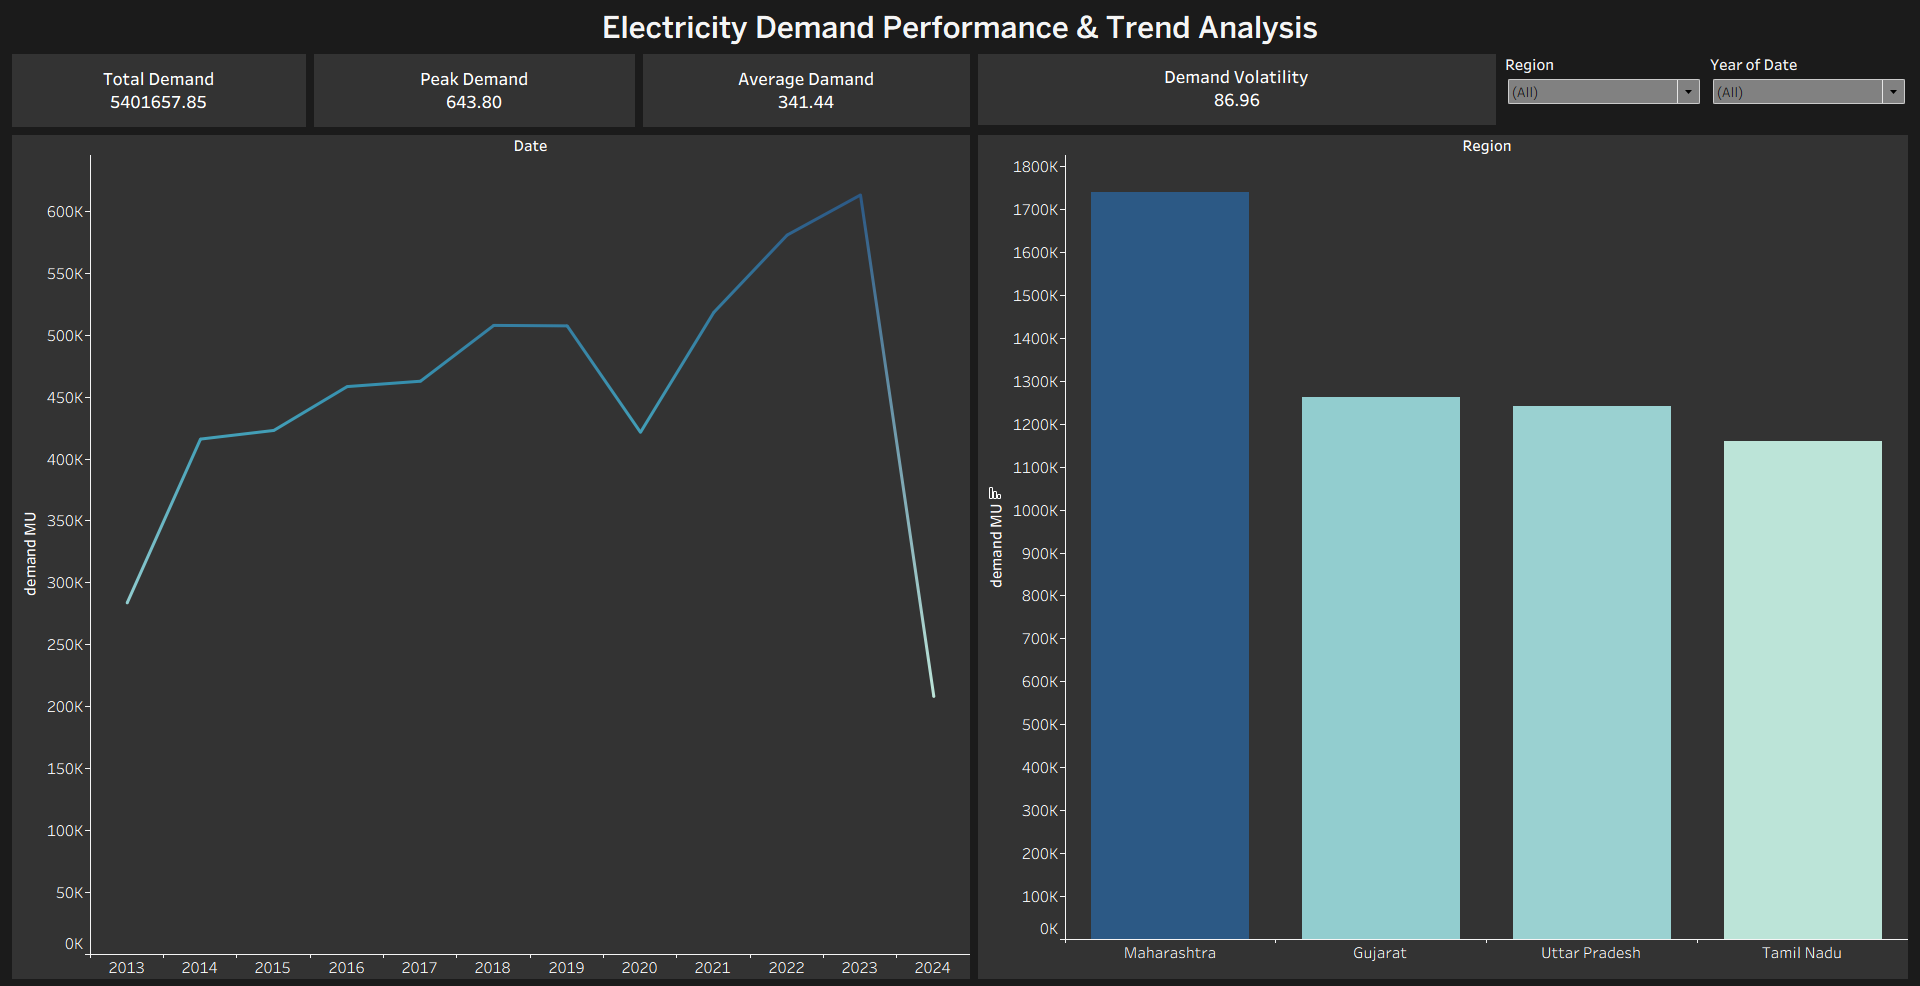

What the dashboard file says about the page in this screenshot:
{"tool":"tableau","page":{"name":"Dashboard 1","canvas":[1000,1000],"units":"permille","ordinal":0},"visuals":[{"type":"title","box":[4.2,9.9,991.5,54.2]},{"type":"worksheet","title":"KPI – Total Demand","mark":"Automatic","box":[4.2,64.1,157,80.2]},{"type":"worksheet","title":"KPI – Peak Demand","mark":"Automatic","box":[161.3,64.1,171.6,80.2]},{"type":"worksheet","title":"KPI – Average Demand","mark":"Automatic","box":[332.9,64.1,174.6,80.2]},{"type":"worksheet","title":"KPI – Demand Volatility","mark":"Automatic","box":[507.5,64.1,274,80.2]},{"type":"filter","title":"Region-wise Average Demand","param":"[federated.1hfbi2v17au38s1eicvek187z7ds].[none:Region:nk]","box":[781.5,64.1,107.1,80.2]},{"type":"filter","title":"Electricity Demand Trend","param":"[federated.1hfbi2v17au38s1eicvek187z7ds].[yr:Date:ok]","box":[888.6,64.1,107.1,80.2]},{"type":"worksheet","title":"Electricity Demand Trend","mark":"Automatic","rows":["demand_MU"],"cols":["Date"],"box":[4.2,144.3,503.3,845.9]},{"type":"worksheet","title":"Region-wise Average Demand","mark":"Automatic","rows":["demand_MU"],"cols":["Region"],"box":[507.5,144.3,488.2,845.9]}]}

Visuals, with their boxes on the dashboard's canvas, which has no fixed pixel size, in thousandths of its width and height (x1, y1, x2, y2). These are canvas units, not pixel positions in the 1920x986 screenshot, which may show the page scaled, cropped or inside an application window:
title: 4/10/996/64
"KPI – Total Demand" worksheet: 4/64/161/144
"KPI – Peak Demand" worksheet: 161/64/333/144
"KPI – Average Demand" worksheet: 333/64/508/144
"KPI – Demand Volatility" worksheet: 508/64/782/144
"Region-wise Average Demand" filter: 782/64/889/144
"Electricity Demand Trend" filter: 889/64/996/144
"Electricity Demand Trend" worksheet: 4/144/508/990
"Region-wise Average Demand" worksheet: 508/144/996/990
